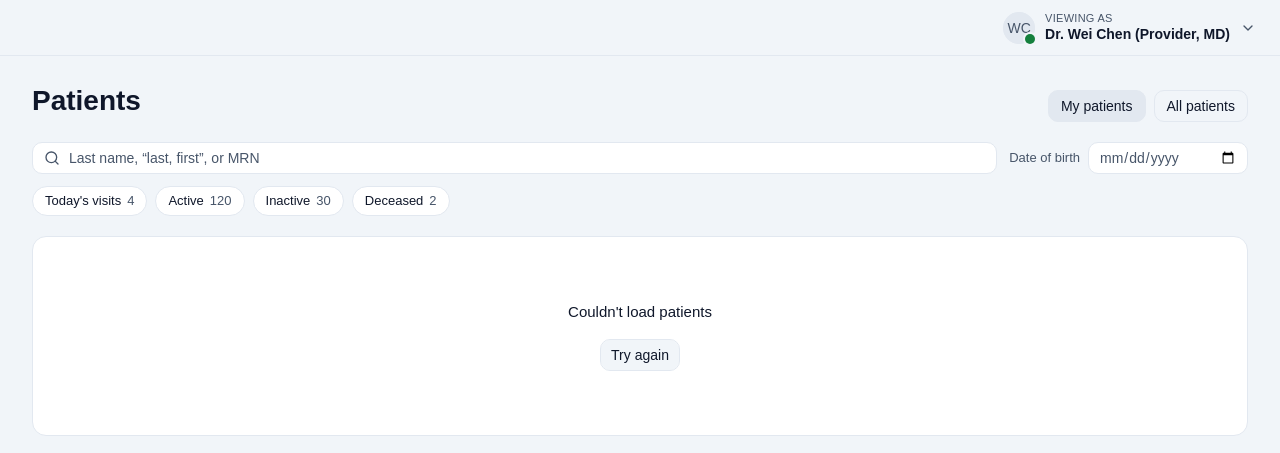
Test: patient list › offers a retry when the list fails, and recovers
Click the button "Try again": click(640, 355) [600,339,680,371]
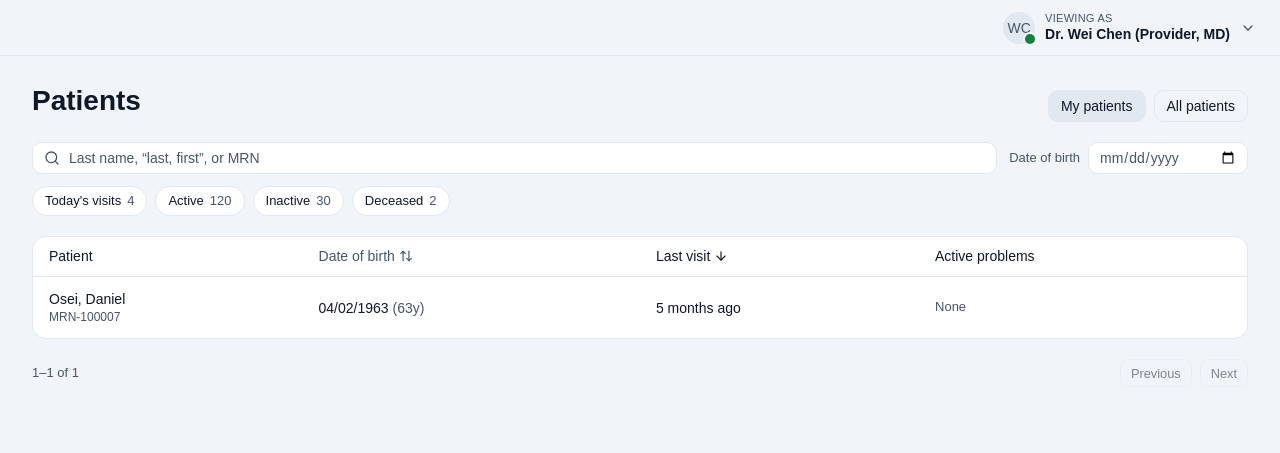
Result: the number of rows "Osei, Daniel MRN-100007 04/02/1963 (63y) 5 months ago None" is 1 at [33,276,1247,338]
